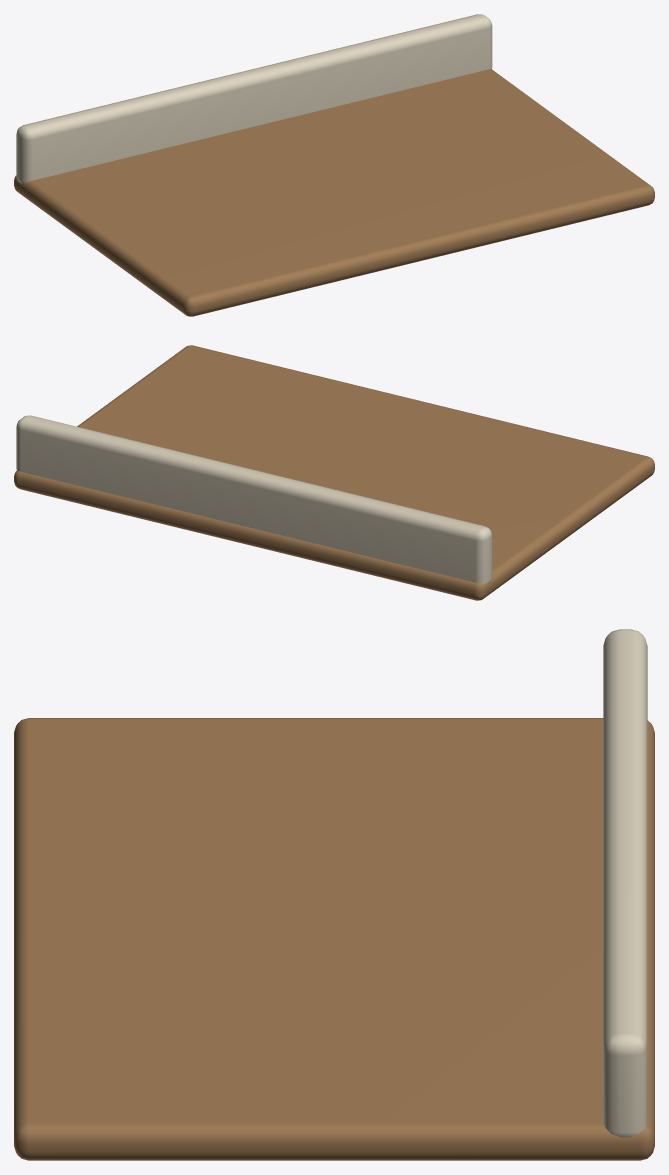
The model's file is kitchen-counter-100.glb.
3 renders of one model, top to bottom at view 1: azimuth 30°, elevation 25°; view 2: azimuth 150°, elevation 25°; view 3: azimuth 270°, elevation 25°, orthographic. The views are drawn at different scales.
Visible parts, largest first — view 1: kitchen-counter-100 / 21 / honey ash timber, kitchen-counter-100 / 01 • warm porcelain paint; view 2: kitchen-counter-100 / 21 / honey ash timber, kitchen-counter-100 / 01 • warm porcelain paint; view 3: kitchen-counter-100 / 21 / honey ash timber, kitchen-counter-100 / 01 • warm porcelain paint.
Part boxes in pixels (x1,y1,x2,y2): kitchen-counter-100 / 21 / honey ash timber: [14, 69, 654, 316]; kitchen-counter-100 / 01 • warm porcelain paint: [16, 14, 492, 183]; kitchen-counter-100 / 21 / honey ash timber: [14, 345, 654, 600]; kitchen-counter-100 / 01 • warm porcelain paint: [16, 415, 492, 584]; kitchen-counter-100 / 21 / honey ash timber: [14, 718, 654, 1160]; kitchen-counter-100 / 01 • warm porcelain paint: [603, 629, 647, 1137].
Bounding box in the file's own units: 1 × 0.14 × 0.65.
